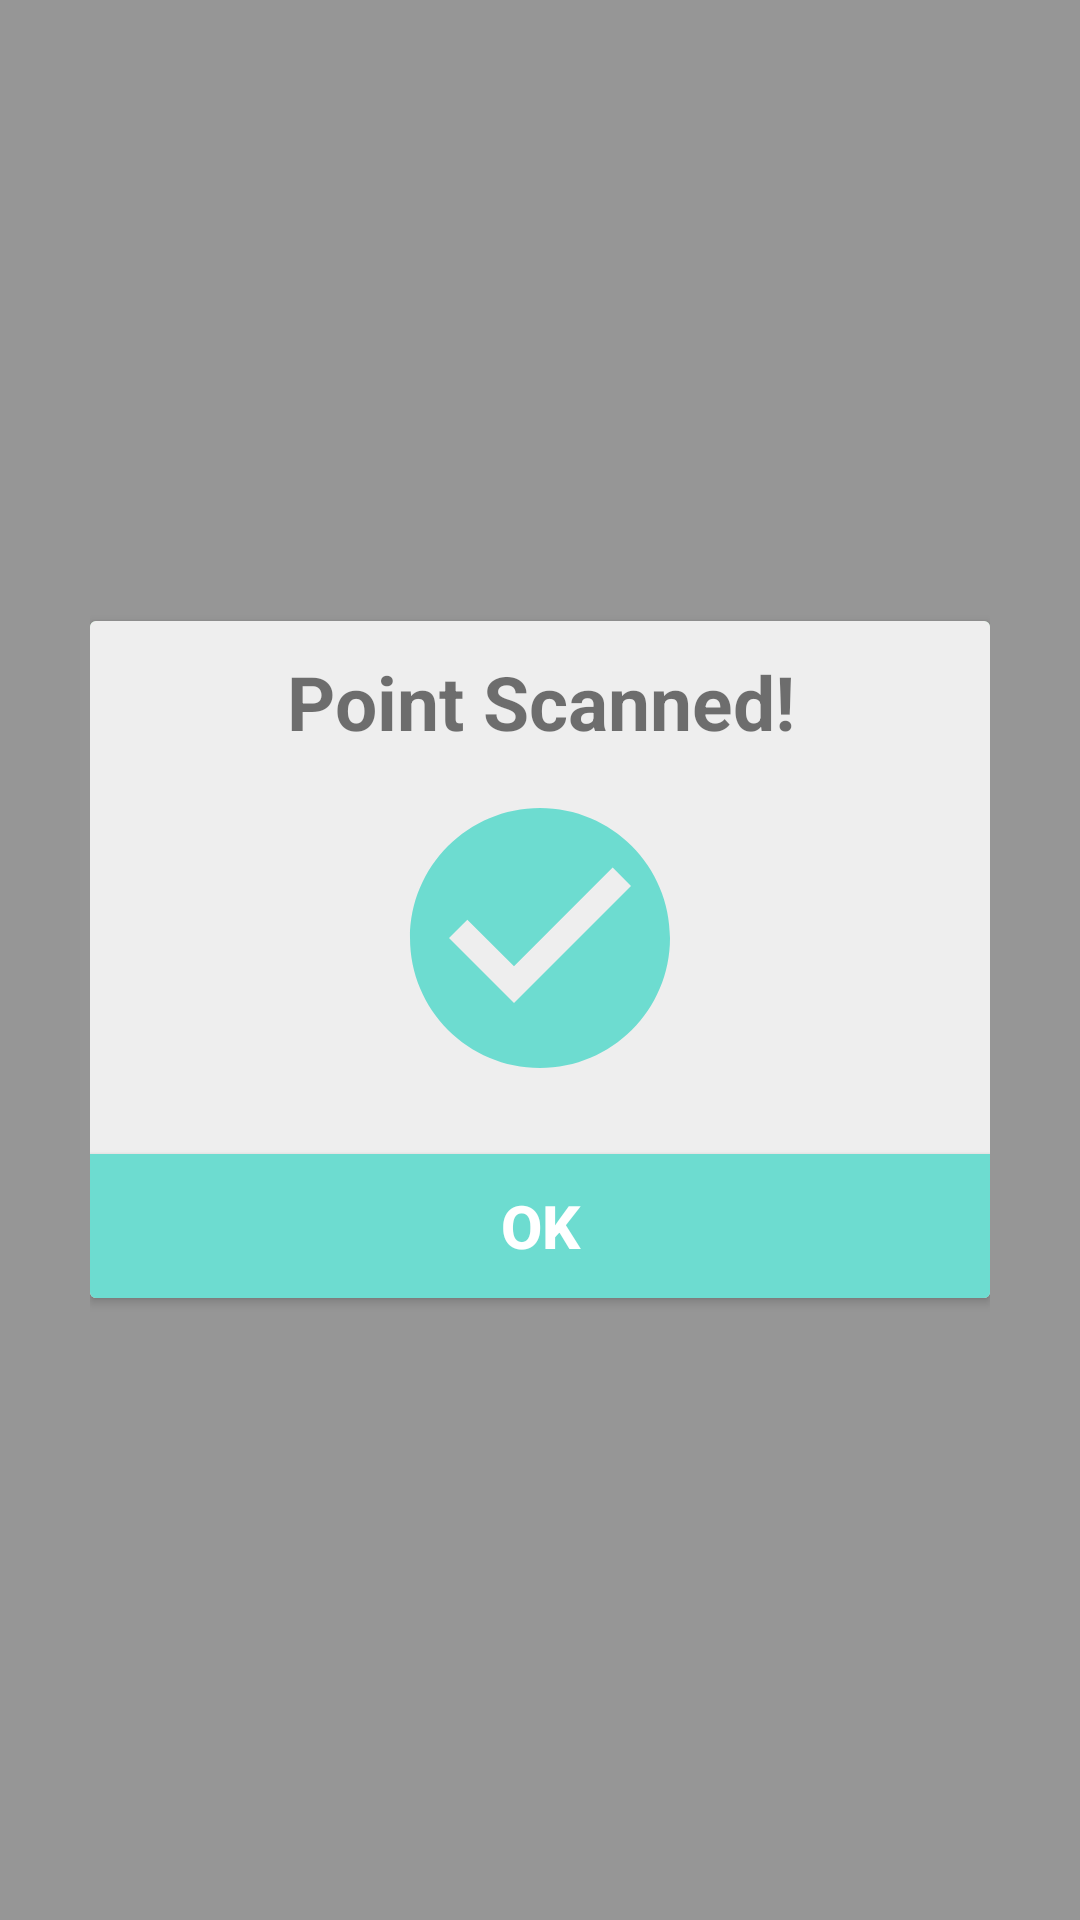

Icon bounding boxes for this 1080x1920 phone screenshot, format region(x1, y1, x2, y2):
check circle: region(410, 808, 670, 1068)
